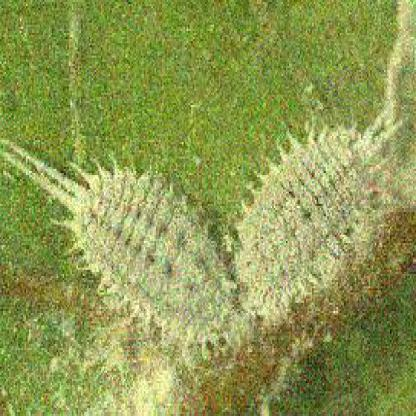mealy bug: (3, 144, 242, 368), (234, 110, 407, 328)
